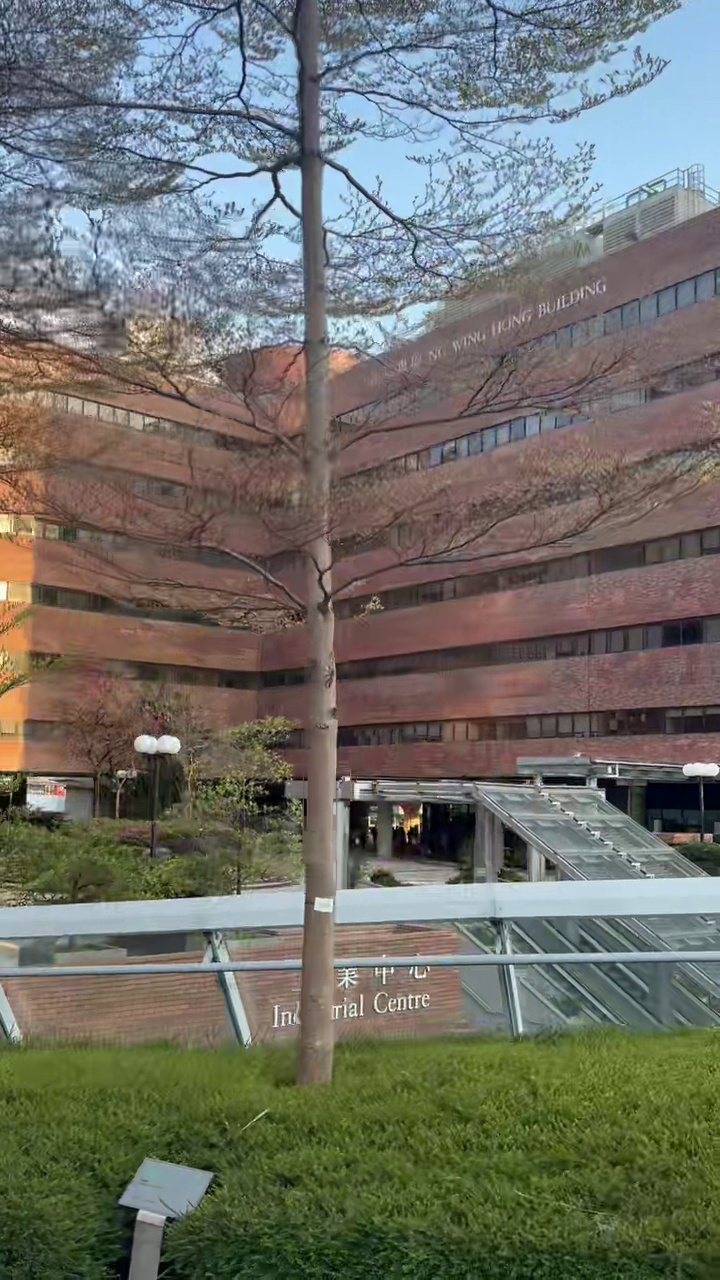Terminalia mantaly: (0, 0, 719, 1083)
